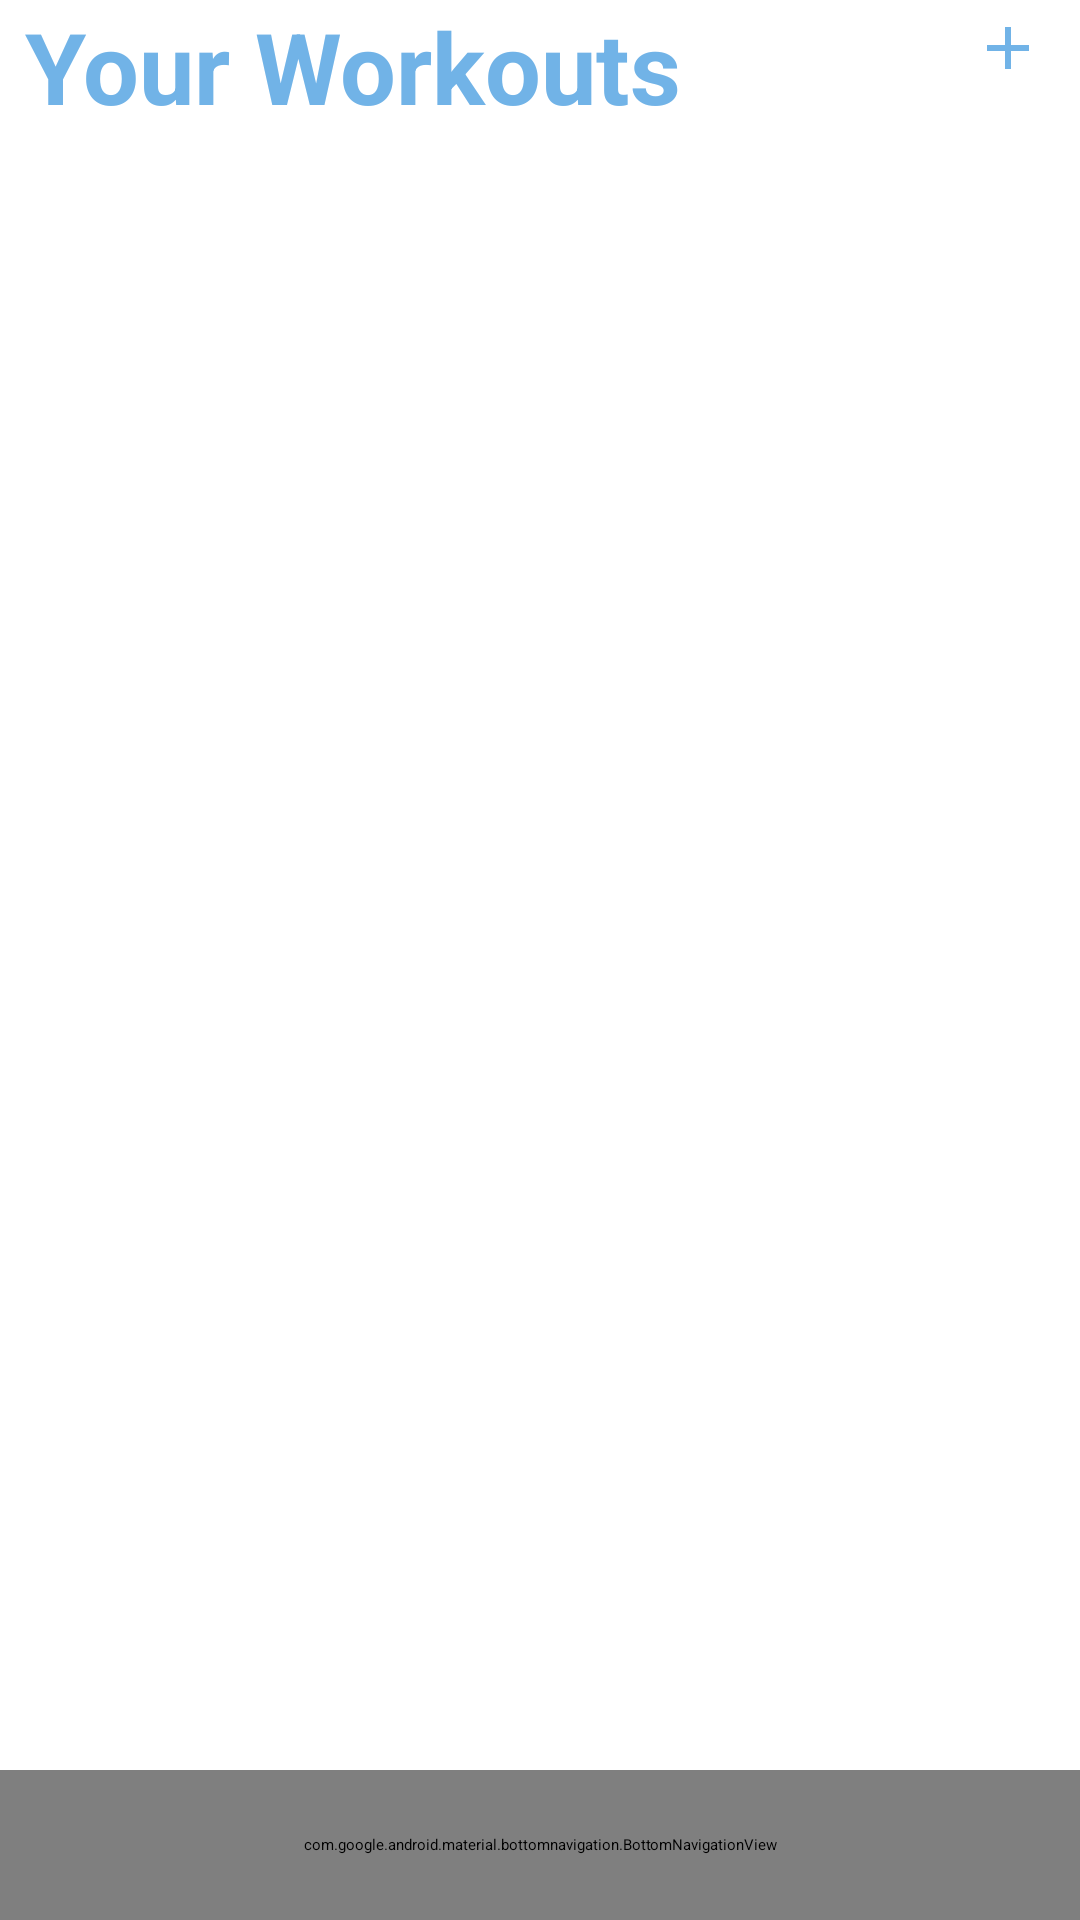

Where to tap for icons on this 1080×1920 app screen, as point (x, y):
add: point (1008, 48)
